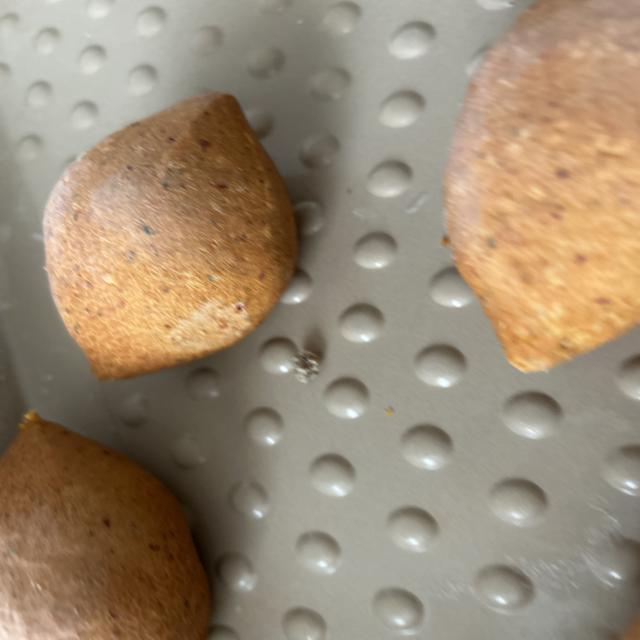kobi: (42, 90, 299, 380), (440, 0, 638, 373), (1, 410, 212, 640)
